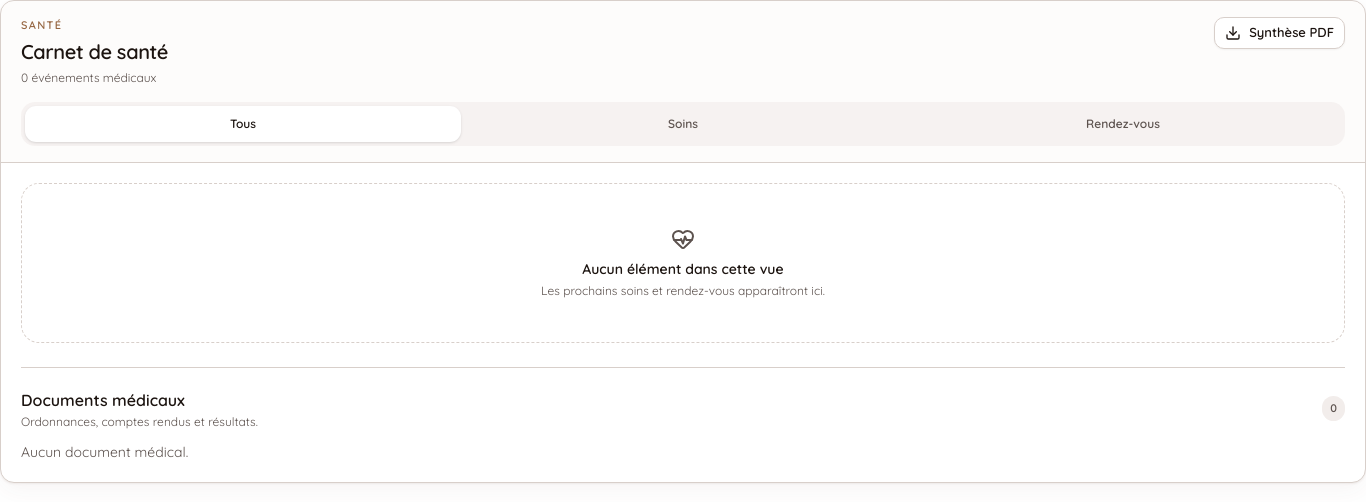
AnimalHealthCard › affiche un chargement pendant la préparation de la synthèse PDF
This screenshot has width=1366, height=502.
Click the button "Synthèse PDF". click: x=1280, y=33
box: [1214,17,1345,49]
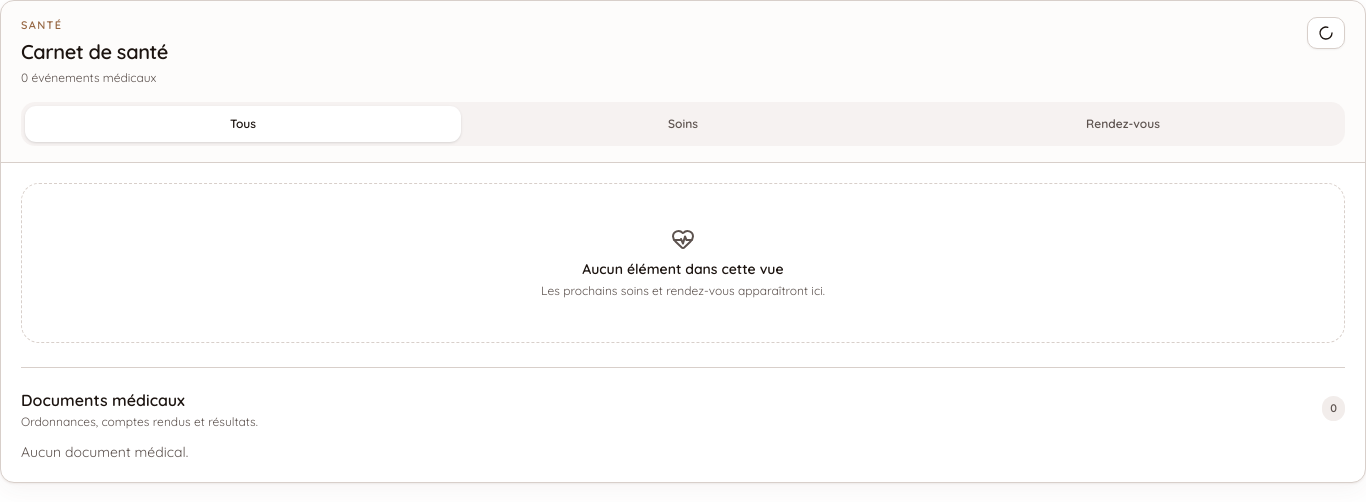
expect the button named "Synthèse PDF" is disabled: met, box [1307,17,1345,49]
